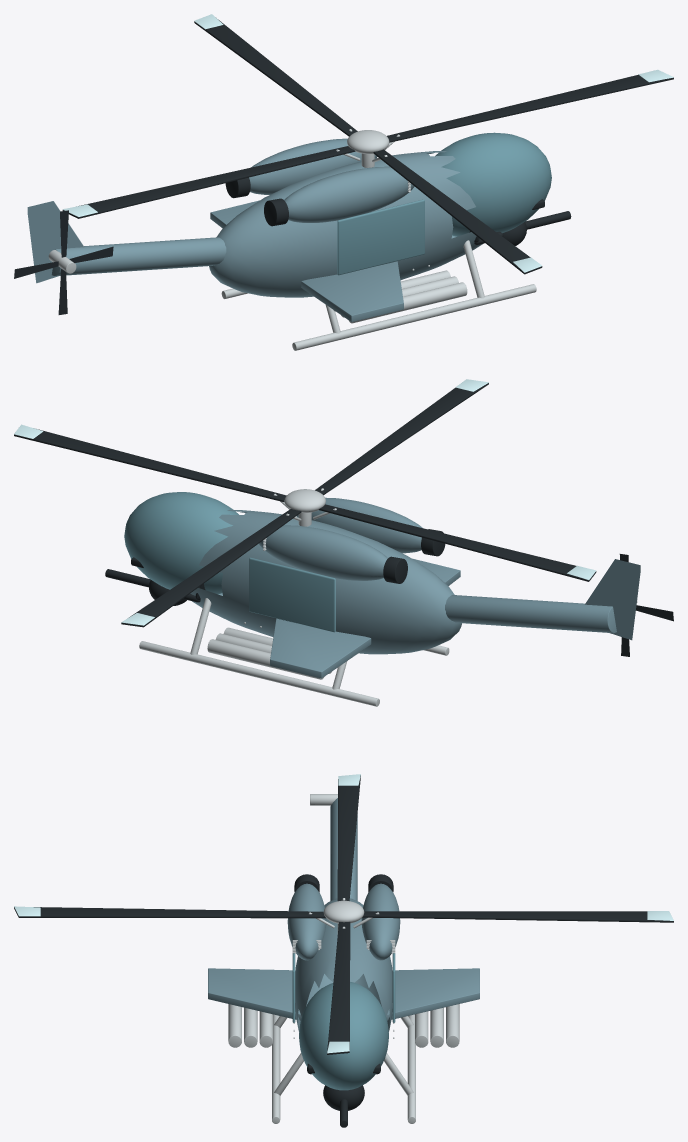
The model's file is CombatHelicopter.fbx.
3 views of the same model, one above another, from view 1: azimuth 30°, elevation 25°; view 2: azimuth 150°, elevation 25°; view 3: azimuth 270°, elevation 25° (orthographic). The views are drawn at different scales.
Visible parts, largest first — view 1: BodyPaint, Glazing, TrimRubber.001, BrushedAlloy, TrimRubber, TrimRubber.002, BrushedAlloy.001, Headlamp; view 2: BodyPaint, Glazing, TrimRubber.001, BrushedAlloy, TrimRubber, BrushedAlloy.001, Headlamp, TrimRubber.002; view 3: BodyPaint, TrimRubber.001, Glazing, BrushedAlloy, TrimRubber, Headlamp, BrushedAlloy.001.
Part boxes in pixels (x1,y1,x2,y2): BodyPaint: [27, 138, 482, 322]; Glazing: [337, 132, 551, 275]; TrimRubber.001: [62, 19, 673, 274]; BrushedAlloy: [221, 181, 536, 350]; TrimRubber: [225, 177, 571, 245]; TrimRubber.002: [14, 210, 113, 314]; BrushedAlloy.001: [336, 129, 399, 167]; Headlamp: [62, 14, 673, 272]; BodyPaint: [190, 497, 640, 678]; Glazing: [124, 492, 335, 632]; TrimRubber.001: [14, 383, 596, 627]; BrushedAlloy: [139, 538, 449, 706]; TrimRubber: [105, 529, 445, 605]; BrushedAlloy.001: [273, 488, 336, 526]; Headlamp: [14, 379, 596, 625]; TrimRubber.002: [619, 554, 673, 656]; BodyPaint: [208, 798, 479, 1031]; TrimRubber.001: [14, 775, 673, 1054]; Glazing: [292, 953, 395, 1090]; BrushedAlloy: [228, 940, 459, 1123]; TrimRubber: [294, 874, 393, 1127]; Headlamp: [14, 774, 673, 1053]; BrushedAlloy.001: [308, 898, 379, 934].
Bounding box in the file's own units: 1514 × 381 × 1360.
